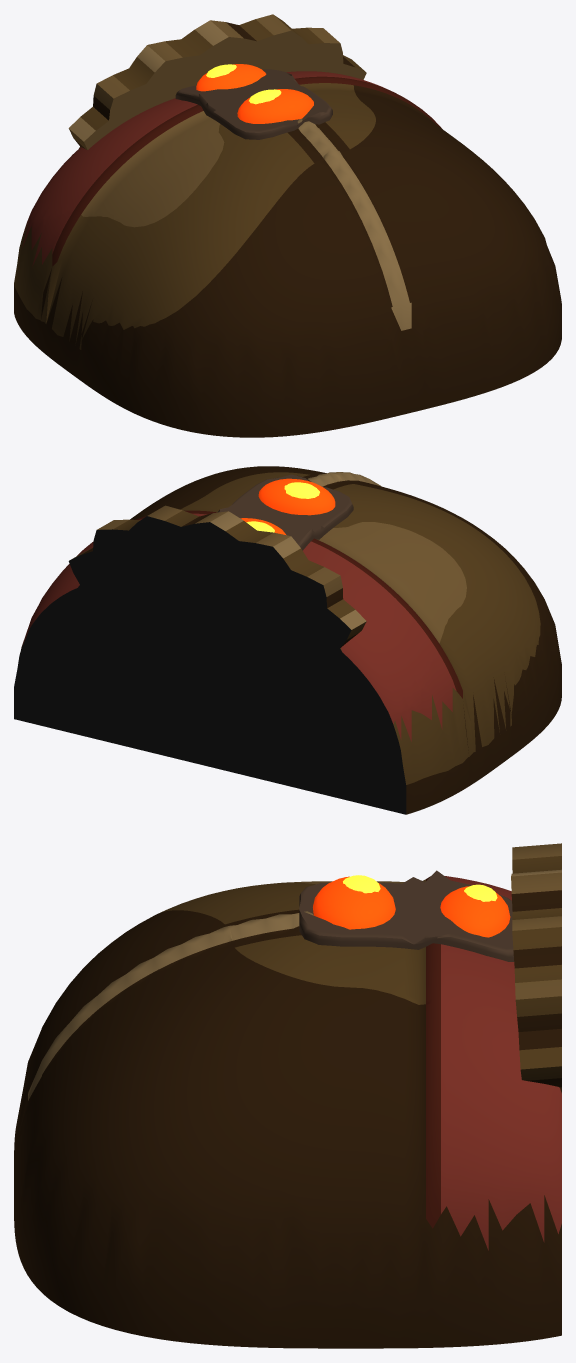
Rendered from dome_cannon_dome_281.glb.
3 renders of one model, top to bottom at view 1: azimuth 30°, elevation 25°; view 2: azimuth 150°, elevation 25°; view 3: azimuth 270°, elevation 25°, orthographic. The views are drawn at different scales.
Visible parts, largest first — view 1: dome_cannon_dome_281; view 2: dome_cannon_dome_281; view 3: dome_cannon_dome_281.
Boxes of the visible parts, x1,y1,x2,y2 form: dome_cannon_dome_281: (14,14,561,437); dome_cannon_dome_281: (14,466,561,814); dome_cannon_dome_281: (14,843,561,1348).
Size of the model in its own units: 21 by 11.4 by 17.
